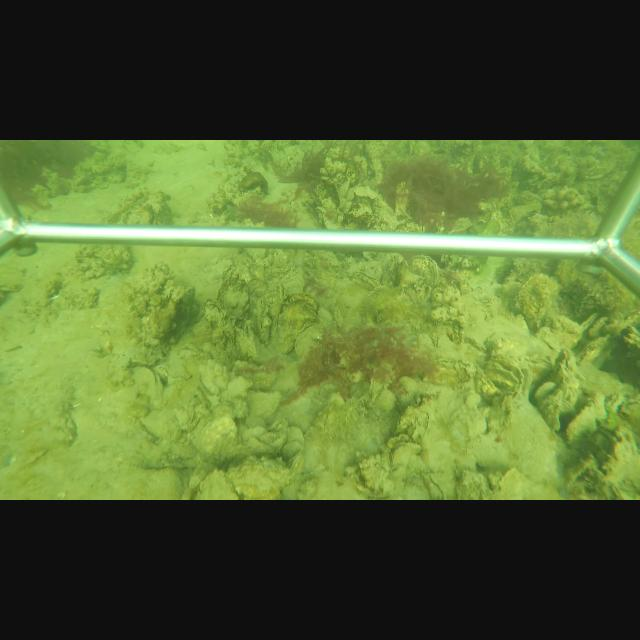Oyster-Closed: (274, 293, 321, 355), (224, 458, 291, 499), (564, 390, 607, 446), (554, 349, 580, 403), (293, 322, 325, 363), (127, 364, 159, 399), (387, 438, 424, 467), (255, 297, 271, 346), (422, 473, 448, 499), (561, 399, 576, 413)
Oyster-Open: (485, 355, 527, 398)
